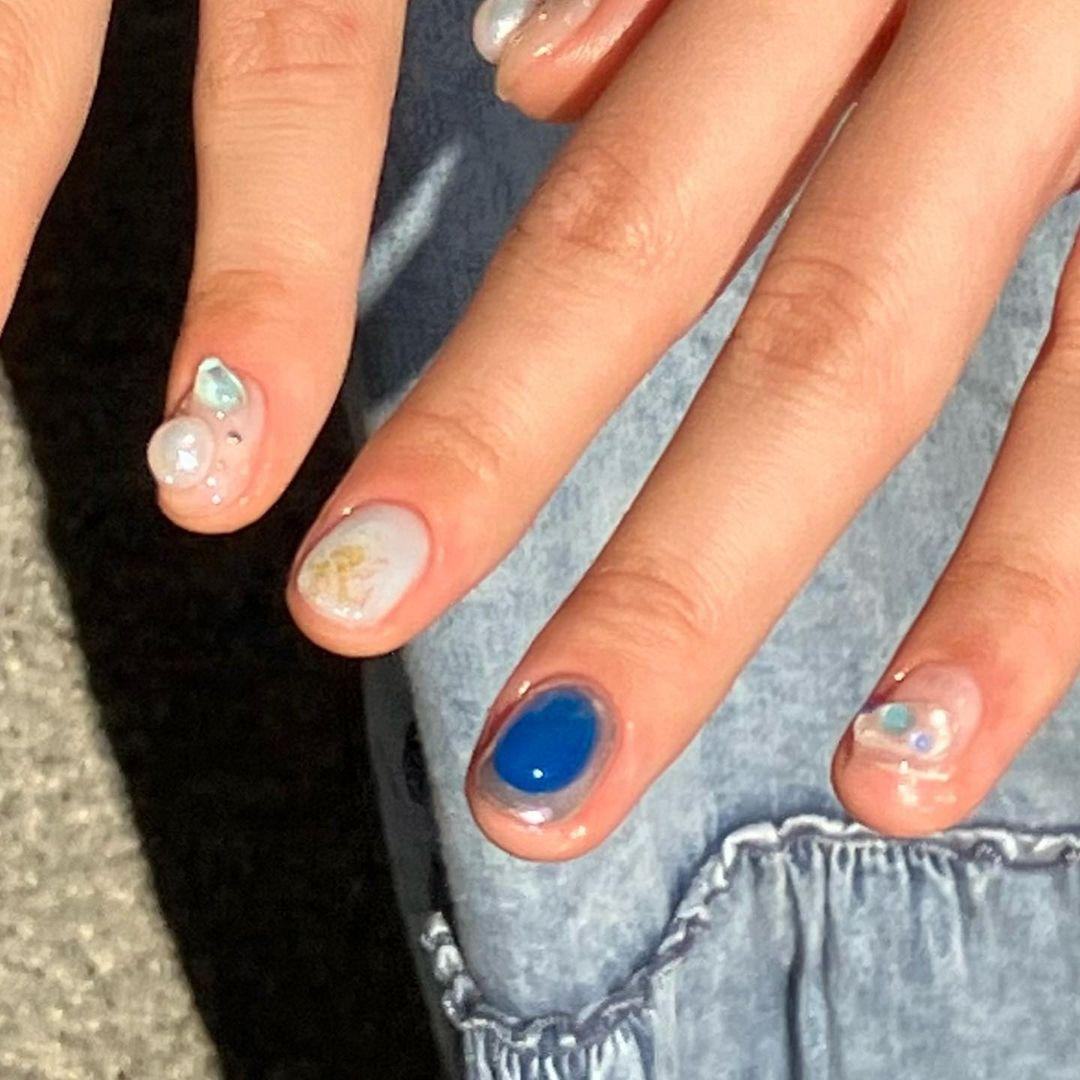nail: (284, 496, 435, 654), (492, 0, 670, 123), (144, 353, 266, 522), (469, 0, 538, 64)
